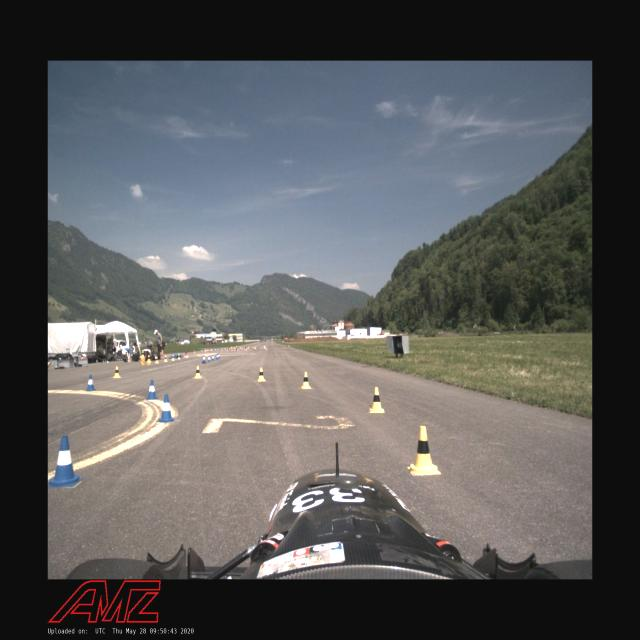blue_cone: (48, 436, 84, 488), (156, 394, 176, 422), (146, 380, 158, 400), (86, 374, 96, 390), (202, 354, 206, 362), (208, 356, 212, 362), (212, 354, 214, 360), (216, 354, 218, 360), (218, 354, 220, 358)
yellow_cone: (408, 426, 442, 475), (368, 387, 384, 413), (301, 372, 311, 389), (258, 368, 266, 382), (194, 366, 202, 378), (113, 366, 121, 378), (141, 350, 145, 358), (147, 355, 151, 362), (155, 357, 159, 363), (164, 356, 168, 362), (171, 354, 175, 360), (177, 354, 181, 359)
